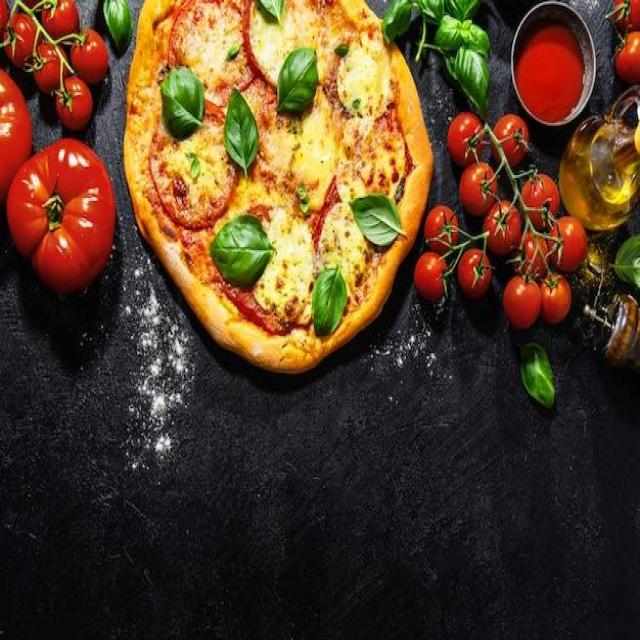basil: (210, 216, 275, 288), (160, 68, 204, 141), (224, 86, 258, 180), (350, 195, 407, 245), (276, 48, 317, 112), (312, 264, 347, 338), (256, 0, 284, 30)
pizza: (123, 0, 433, 373)
